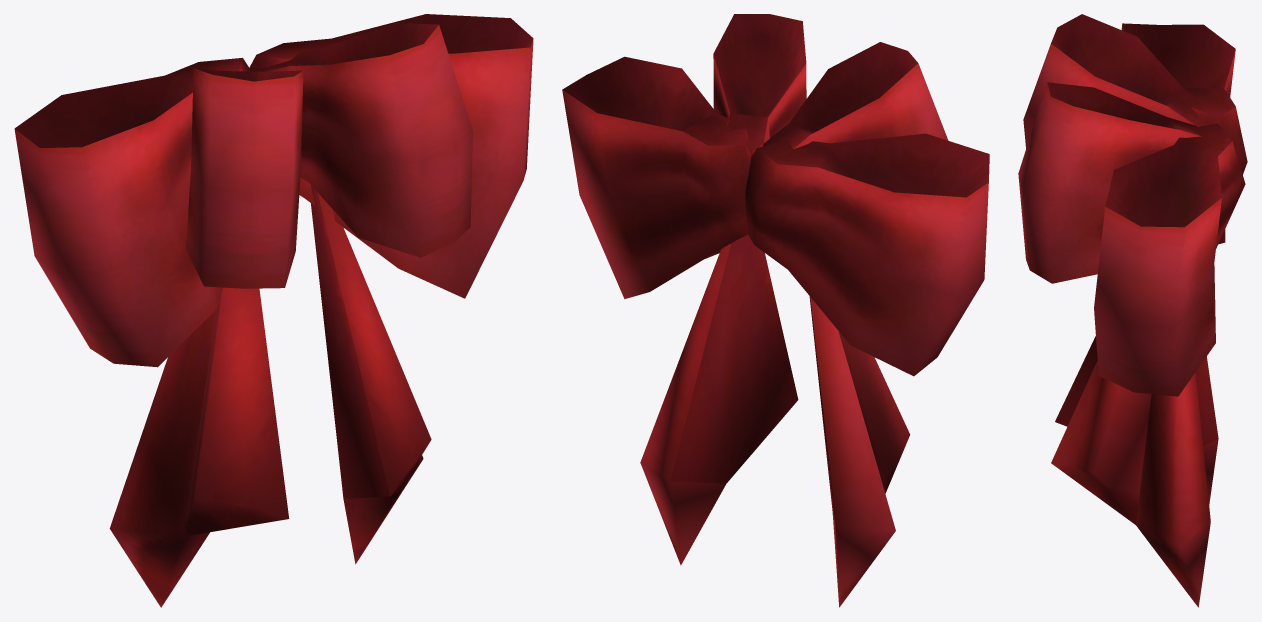
The model's file is environment_common_hudiejie_001_a.FBX.
3 renders of one model, left to right at view 1: azimuth 30°, elevation 25°; view 2: azimuth 150°, elevation 25°; view 3: azimuth 270°, elevation 25°, orthographic. The views are drawn at different scales.
Visible parts, largest first — view 1: environment_common_hudiejie_001_a; view 2: environment_common_hudiejie_001_a; view 3: environment_common_hudiejie_001_a.
Part boxes in pixels (x1=…): environment_common_hudiejie_001_a: x1=14, y1=14, x2=533, y2=607; environment_common_hudiejie_001_a: x1=562, y1=14, x2=989, y2=607; environment_common_hudiejie_001_a: x1=1018, y1=14, x2=1247, y2=607.
Size of the model in its own units: 108 by 125 by 51.42.
